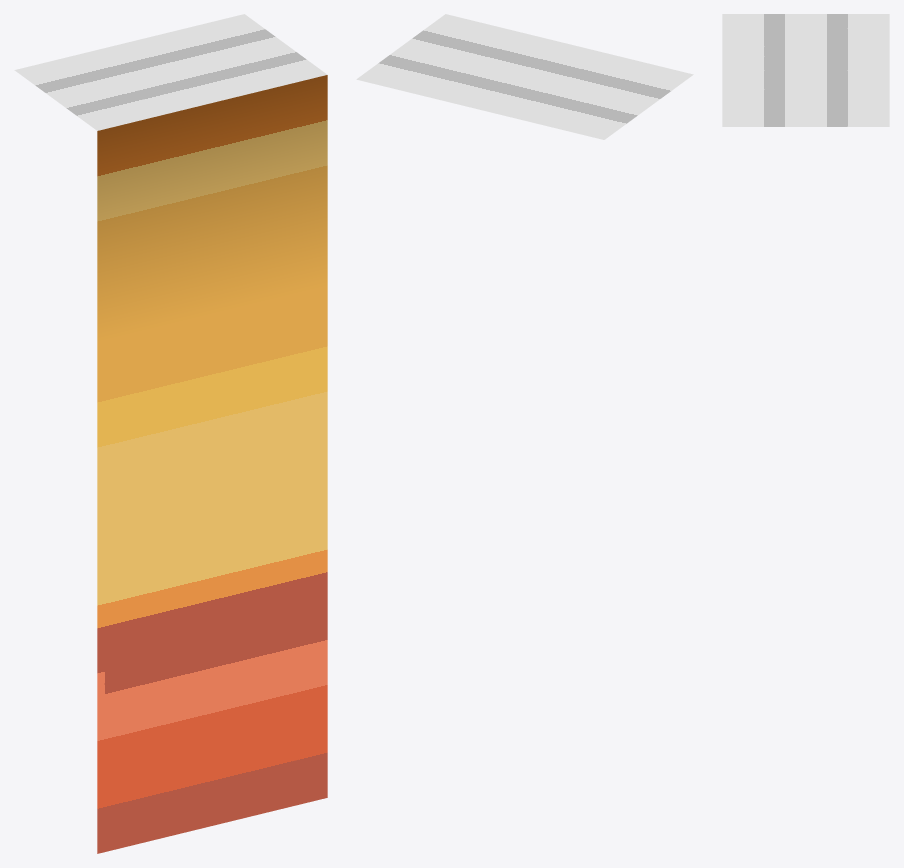
3 renders of one model, left to right at view 1: azimuth 30°, elevation 25°; view 2: azimuth 150°, elevation 25°; view 3: azimuth 270°, elevation 25°, orthographic. The views are drawn at different scales.
Bounding box in the file's own units: 1 × 3 × 0.625.
Materials: 2 (2 with a texture image).
